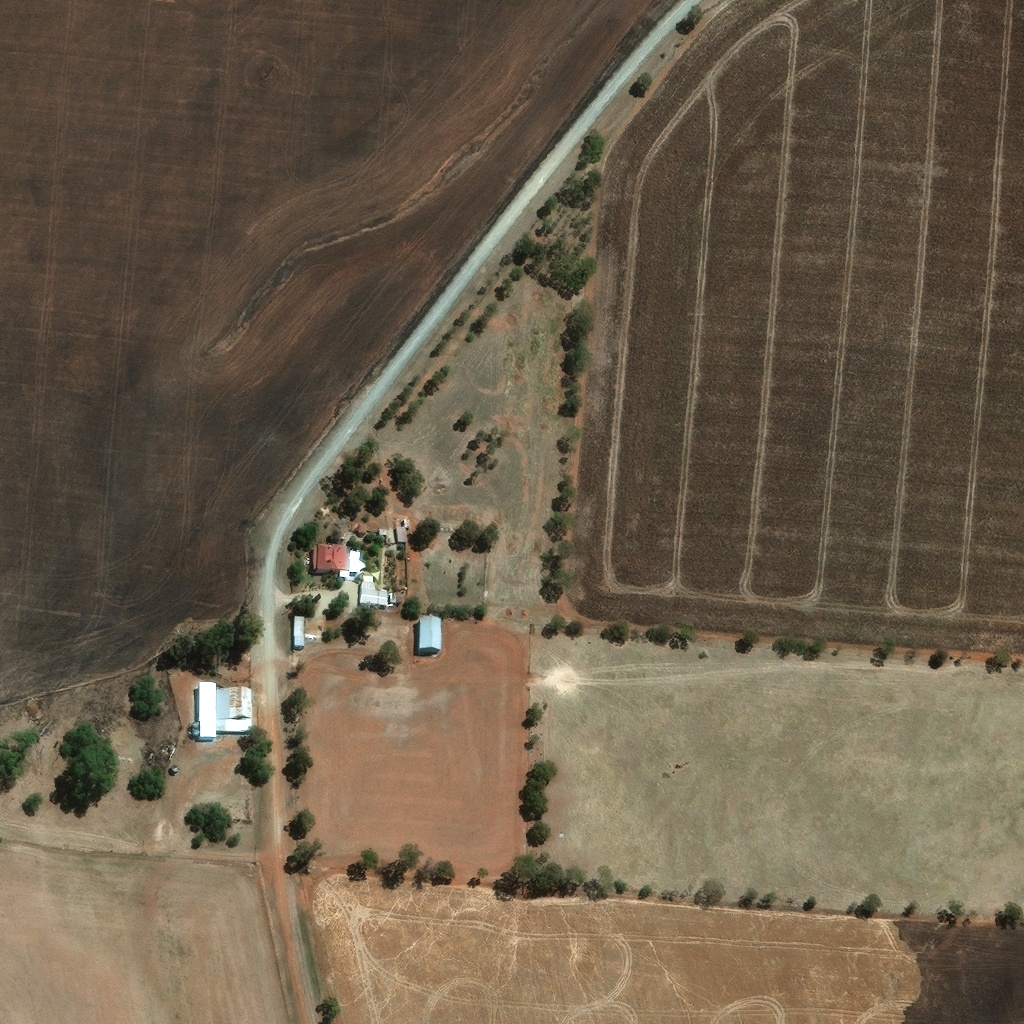0 no-damage: (199, 678, 254, 736), (312, 543, 347, 569), (418, 614, 443, 647), (360, 578, 390, 604), (341, 554, 368, 575), (395, 516, 412, 538), (294, 612, 306, 643), (190, 718, 200, 734), (170, 760, 180, 768), (390, 588, 398, 598), (359, 521, 367, 530), (306, 627, 317, 633), (364, 572, 374, 578), (379, 526, 388, 532), (364, 602, 372, 606)
4 un-classified: (431, 610, 440, 616)
